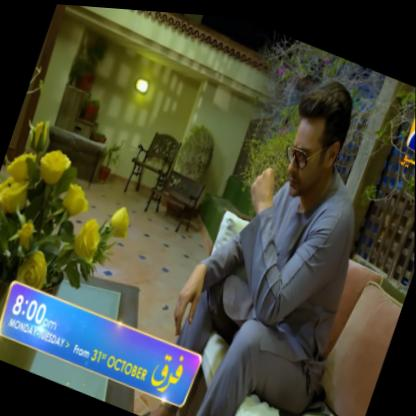Chair: (118, 120, 184, 216)
Sofa: (152, 194, 413, 416)
